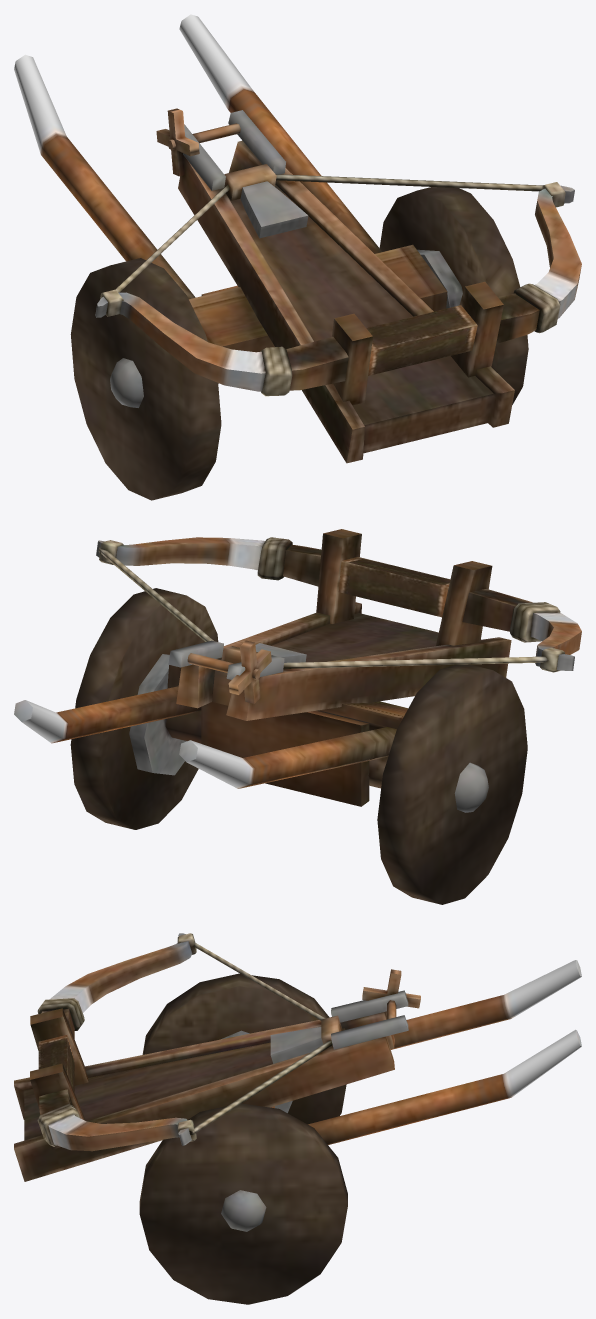
The model's file is weapon-base.glb.
3 views of the same model, one above another, from view 1: azimuth 30°, elevation 25°; view 2: azimuth 150°, elevation 25°; view 3: azimuth 270°, elevation 25° (orthographic). The views are drawn at different scales.
Bounding box in the file's own units: 2.13 × 1.22 × 2.54.
1 material, 1 textured.
